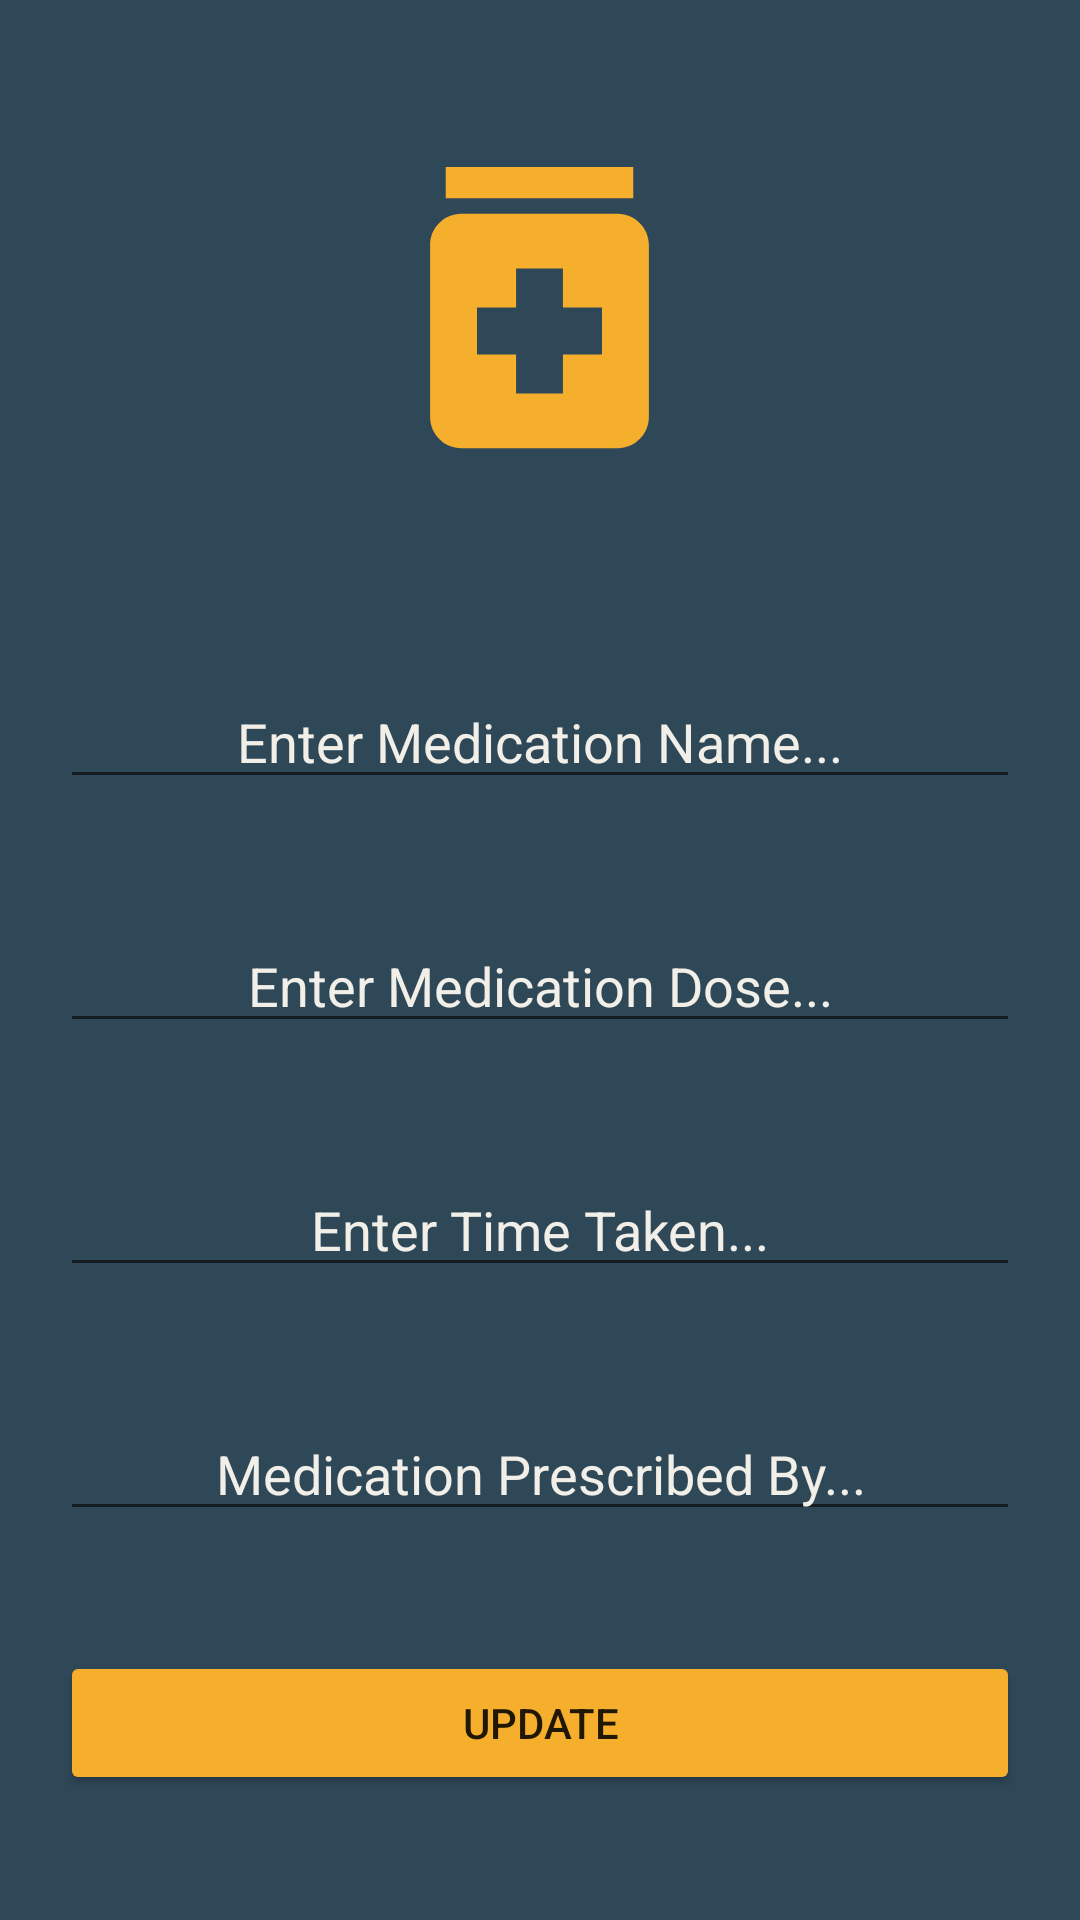

Where to tap for icons on this 1080*1920 app screen, as (x=x, y=y):
medication bottle: (x=539, y=308)
